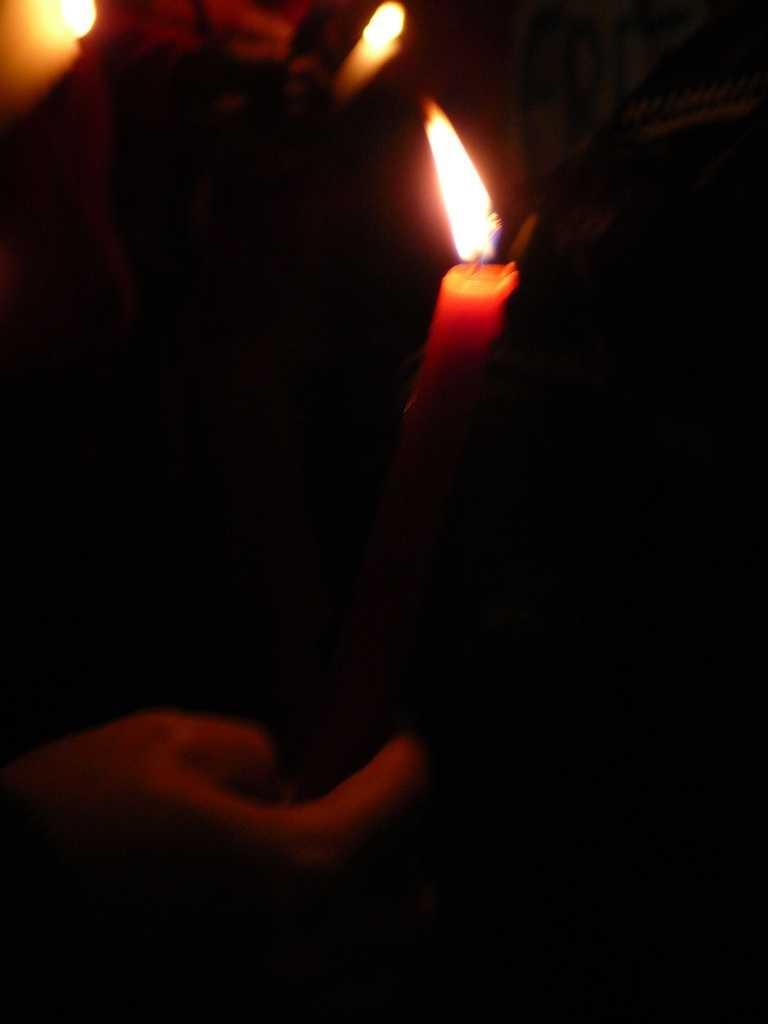fire: (414, 94, 518, 274), (332, 6, 443, 53)
